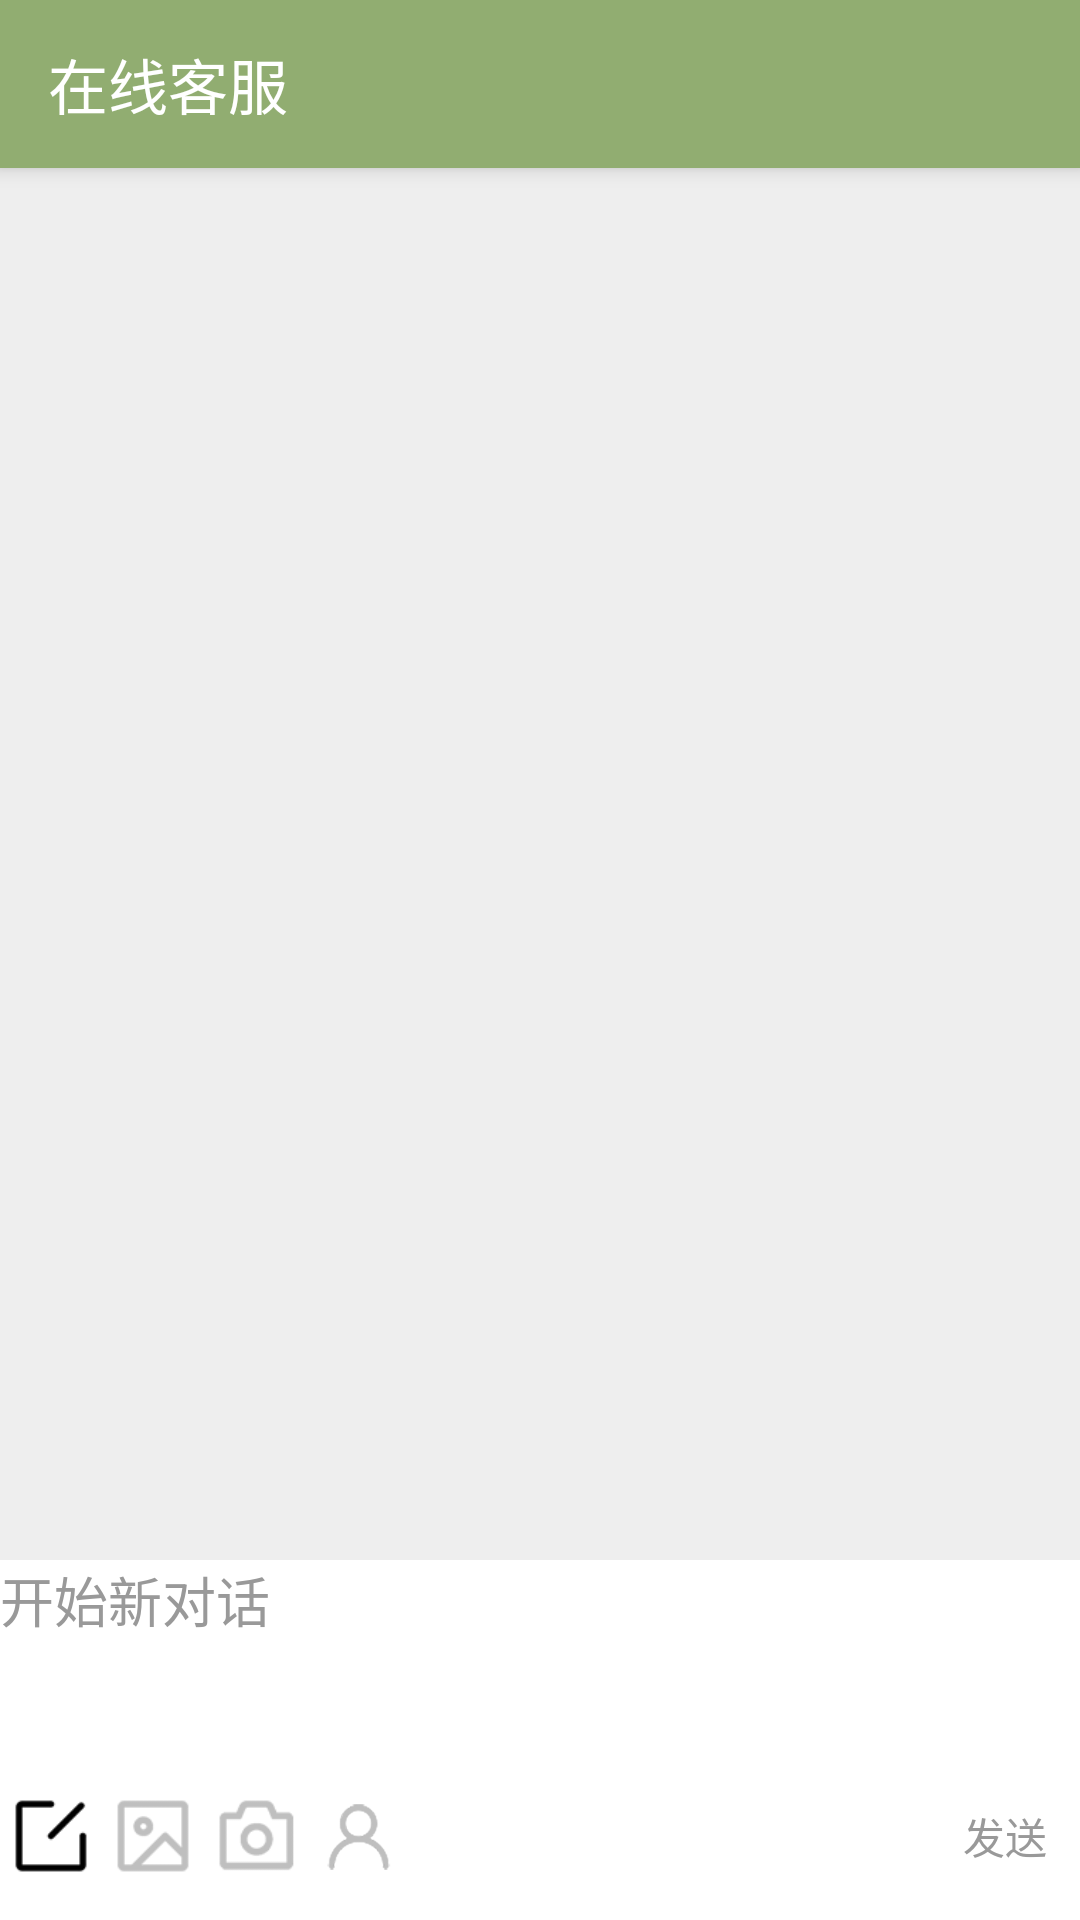

Named icons in this screenshot (1080 × 1920) and their centers, point (x, y):
camera: point (256, 1835)
editor: point (51, 1836)
people: point (358, 1837)
